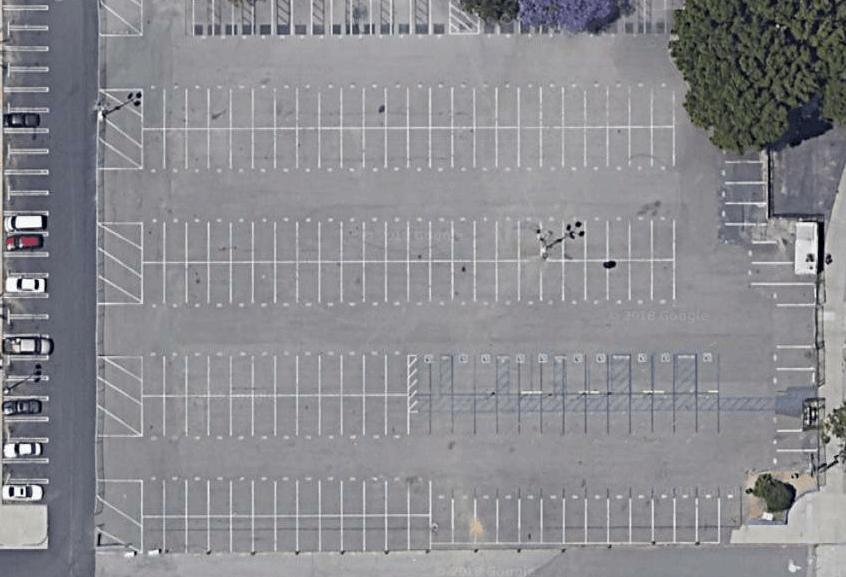parkingspot: (140, 258, 677, 310), (140, 213, 676, 265), (140, 125, 677, 176), (140, 81, 677, 131), (0, 4, 52, 509), (429, 490, 743, 545), (413, 390, 721, 437), (139, 393, 411, 444), (140, 348, 410, 399), (139, 513, 433, 559), (140, 475, 433, 519), (191, 0, 452, 41), (770, 343, 821, 474), (744, 240, 817, 309), (717, 148, 770, 227), (592, 0, 686, 38), (562, 350, 612, 397), (507, 352, 557, 398), (628, 350, 677, 396), (450, 351, 499, 397), (477, 19, 568, 42), (416, 351, 443, 398), (694, 350, 721, 396)
